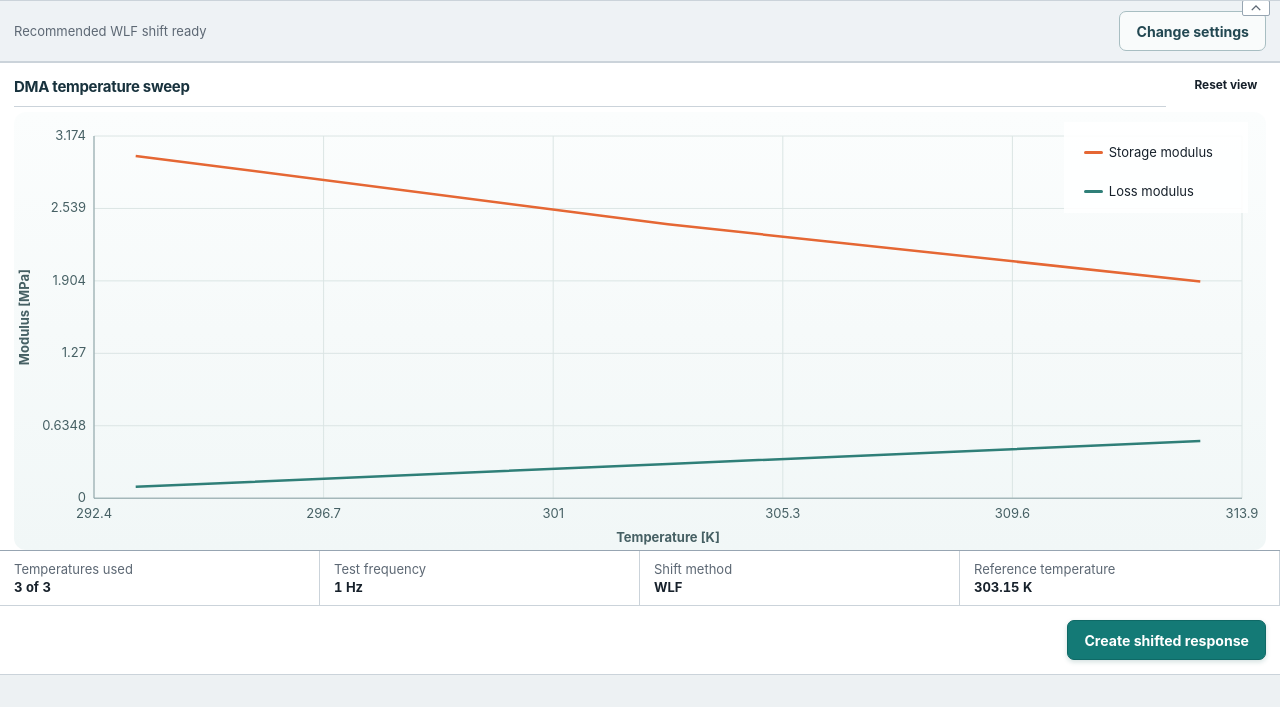
DMA TTS Process workspace › retries only the Fit handoff after the shifted response was already created
Click the button "Create shifted response".
click(1167, 640)  # box x1=1067 y1=620 x2=1266 y2=660
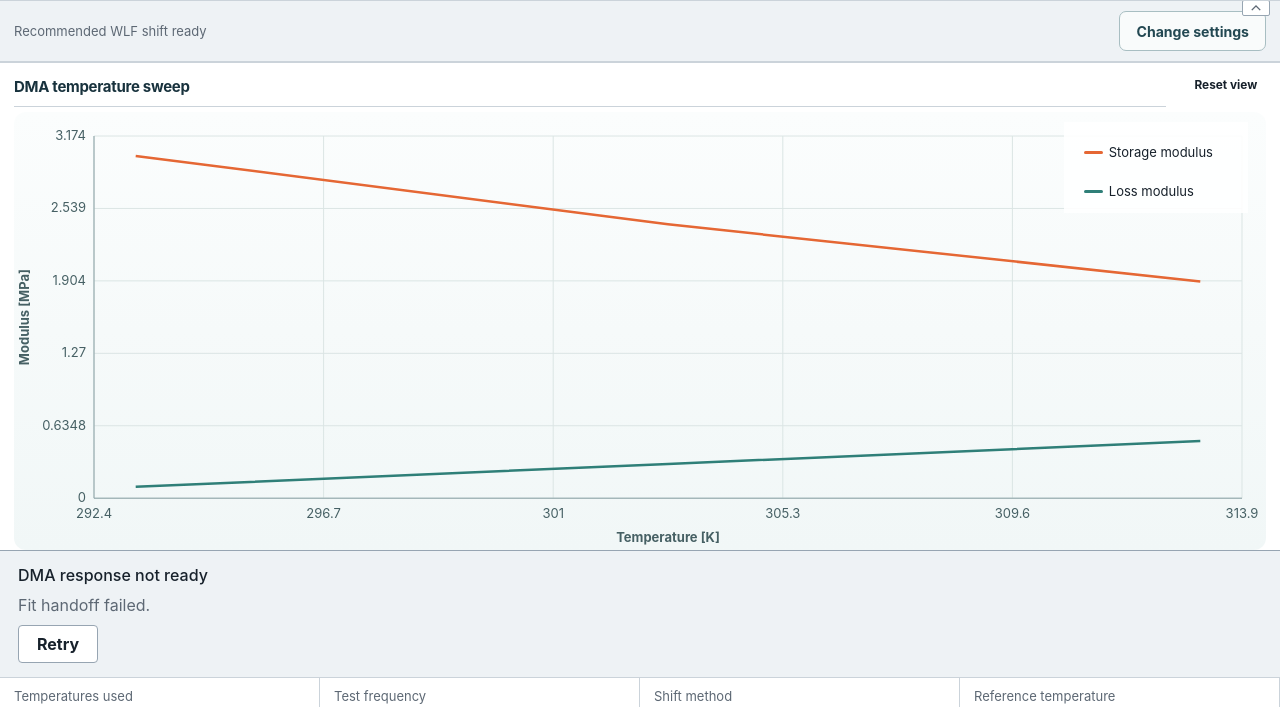
expect the text "Fit handoff failed." is shown: met, box x1=18 y1=595 x2=150 y2=615
Click the button "Retry".
click(58, 644)  # box x1=18 y1=625 x2=98 y2=663
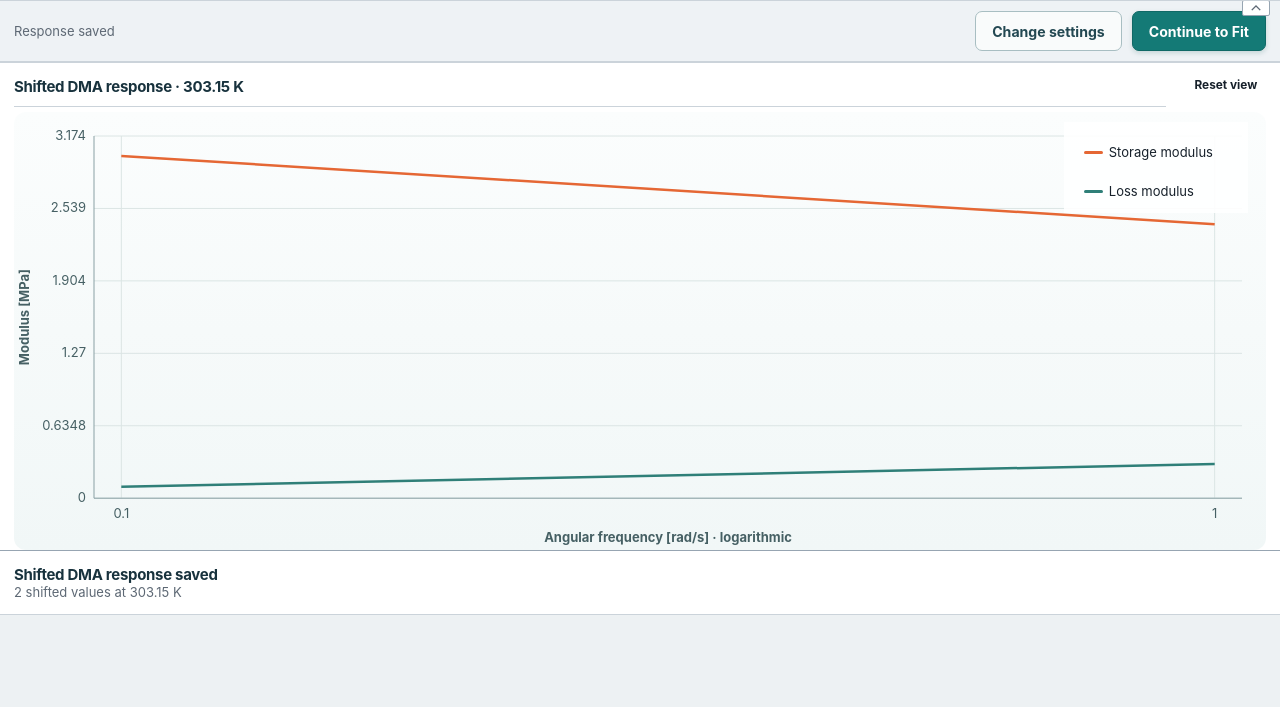
expect the heading "Shifted DMA response saved" is shown: met, box x1=14 y1=565 x2=218 y2=584
